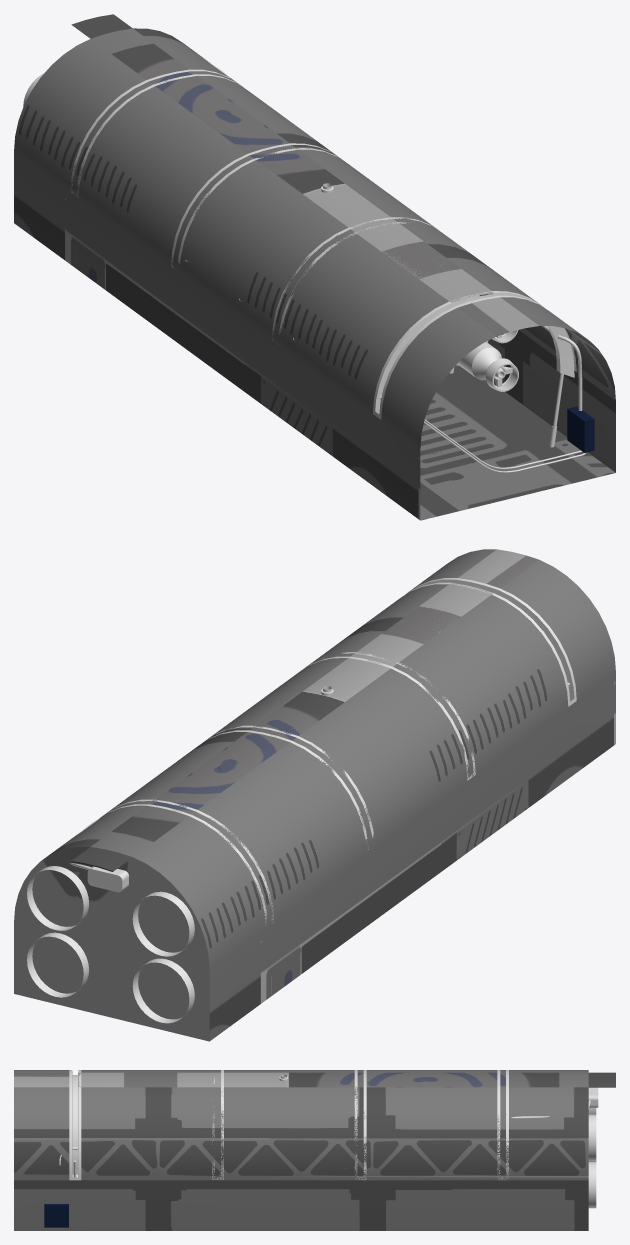
Rendered from TorpedoRoom.fbx.
The picture shows the model from 3 angles, top to bottom: view 1: azimuth 30°, elevation 25°; view 2: azimuth 150°, elevation 25°; view 3: azimuth 270°, elevation 25°; orthographic projection. The views are drawn at different scales.
Visible parts, largest first — view 1: Walls, Arch, Torpedos, Wires, TrimBlock; view 2: Walls, Arch, TorpedoLaunchers2, Periscope; view 3: Walls, Arch, TorpedoLaunchers2, TrimBlock.
Part boxes in pixels (left/top/right/bottom): Walls: left=14, top=14, right=615, bottom=520; Arch: left=70, top=69, right=576, bottom=447; Torpedos: left=457, top=330, right=518, bottom=391; Wires: left=204, top=59, right=585, bottom=472; TrimBlock: left=567, top=406, right=594, bottom=452; Walls: left=14, top=549, right=615, bottom=1041; Arch: left=99, top=578, right=576, bottom=925; TorpedoLaunchers2: left=27, top=866, right=194, bottom=1023; Periscope: left=87, top=866, right=128, bottom=892; Walls: left=14, top=1070, right=615, bottom=1230; Arch: left=69, top=1070, right=508, bottom=1180; TorpedoLaunchers2: left=588, top=1107, right=596, bottom=1208; TrimBlock: left=44, top=1204, right=68, bottom=1227.
Size of the model in its own units: 250 by 222 by 925.
